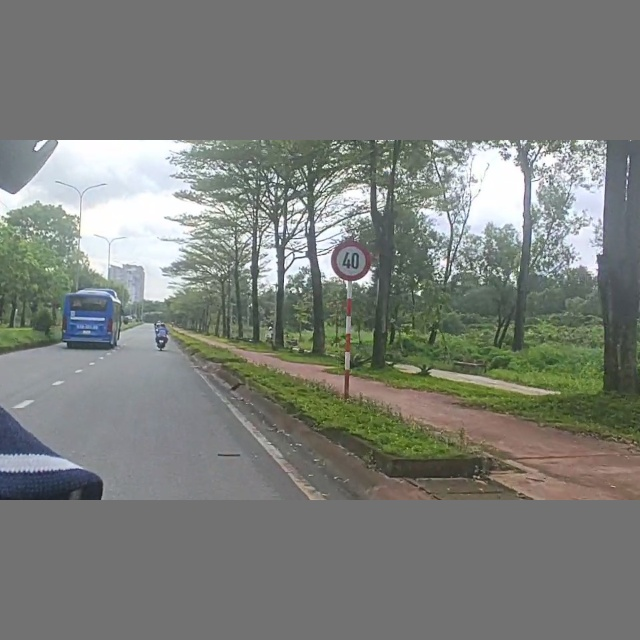P.127*40: (330, 241, 376, 280)
